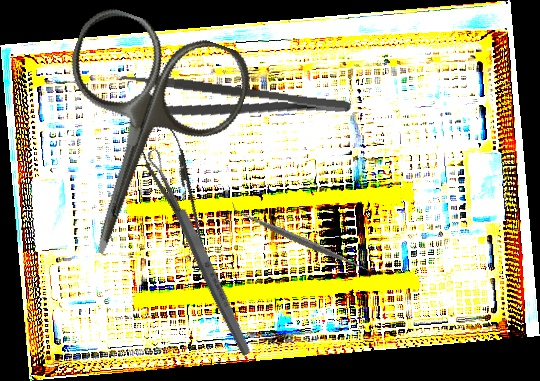Dressing Forceps: (116, 71, 354, 137)
Iris Scissors: (14, 0, 259, 282)
Needle Holder: (123, 97, 227, 273)
Spatula Surgical: (232, 171, 370, 309)
Surgical Spoon: (145, 147, 254, 358)
